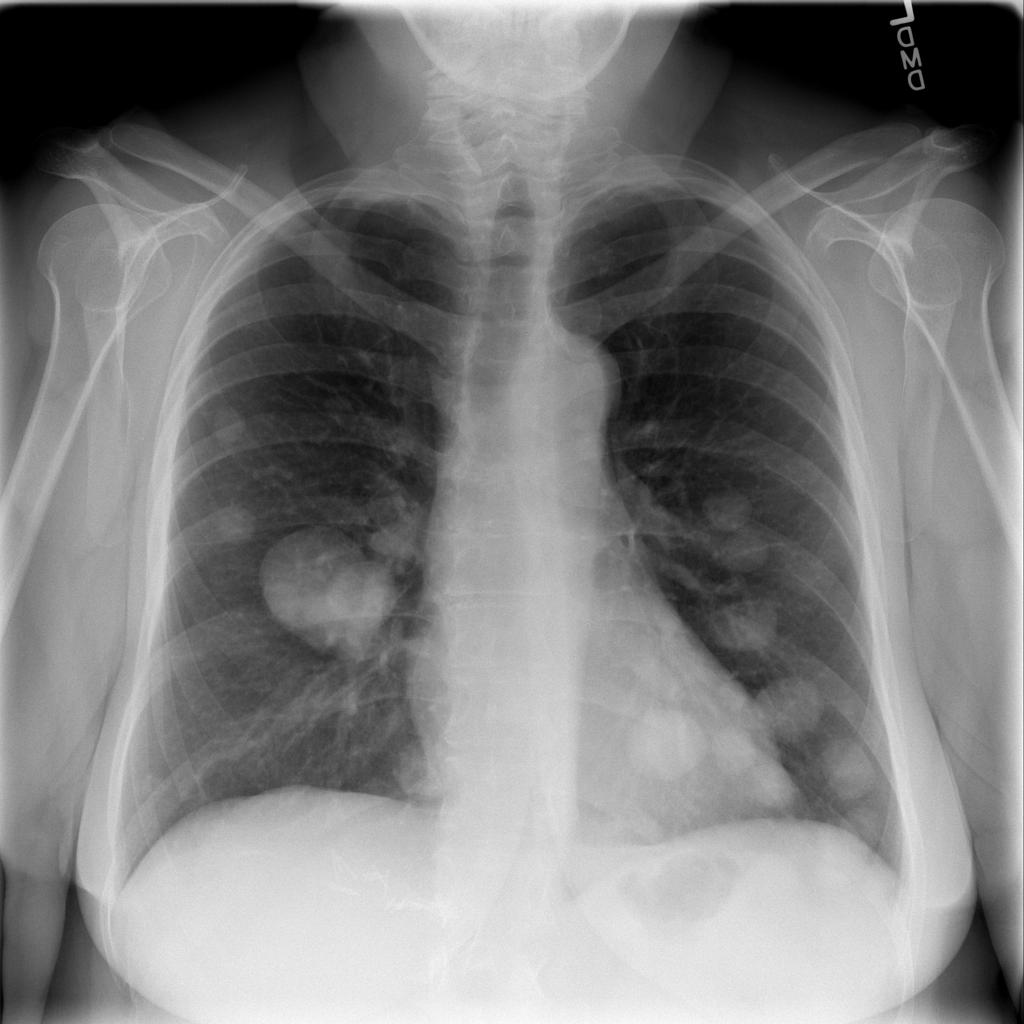nodule: (260, 519, 415, 664), (626, 698, 706, 788), (748, 663, 831, 744), (385, 732, 460, 814), (707, 586, 787, 656), (706, 725, 780, 800), (813, 731, 884, 809), (695, 474, 768, 547), (707, 516, 784, 583), (194, 389, 265, 459), (197, 489, 271, 556), (830, 793, 898, 865), (730, 759, 809, 820), (706, 670, 758, 720)
